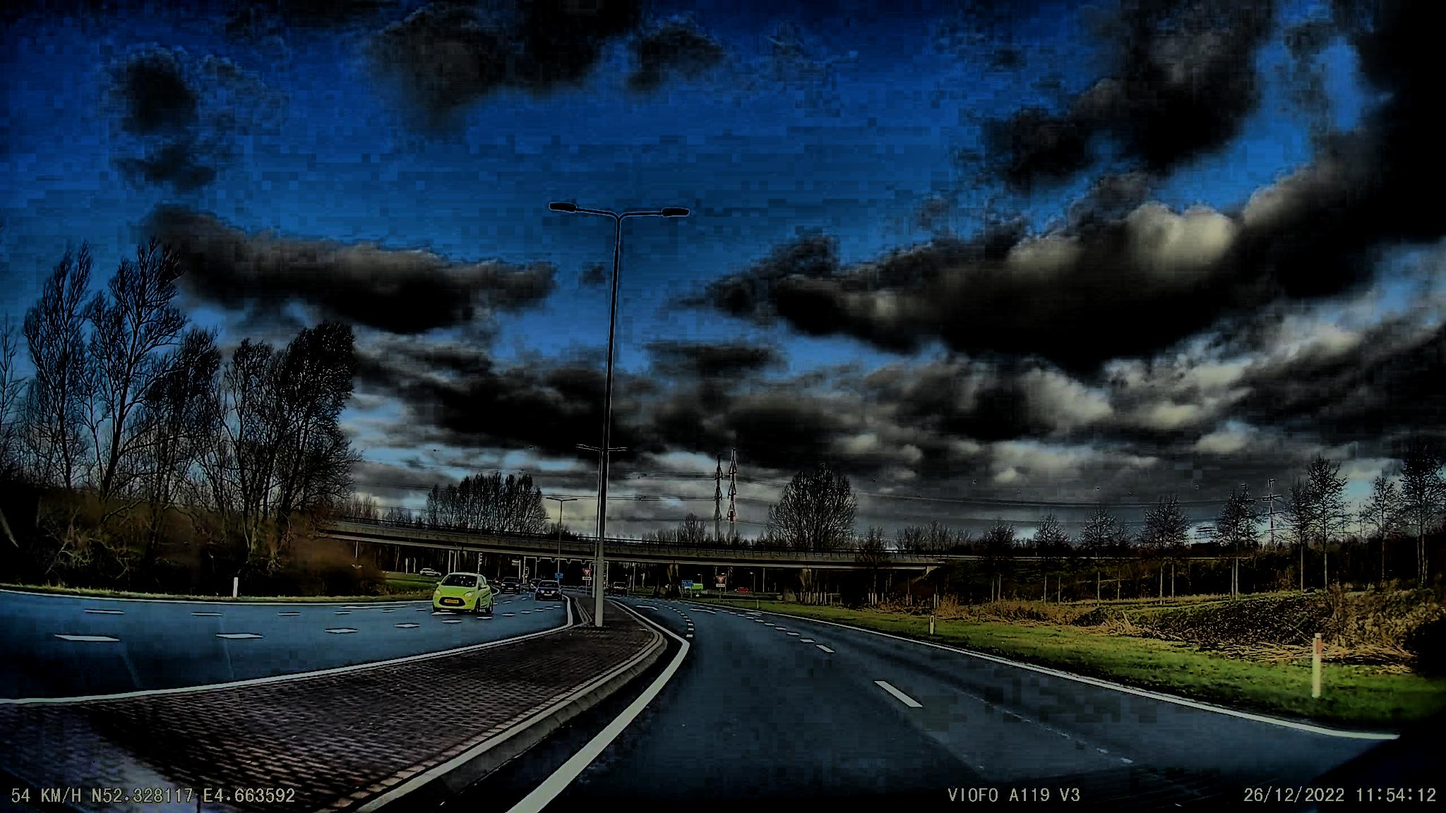Roads: (333, 598, 1446, 813)
